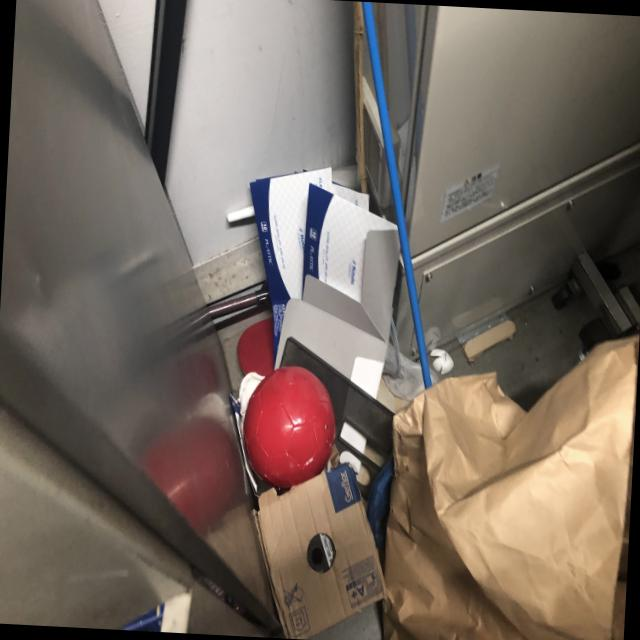red_ball: (240, 362, 340, 488)
